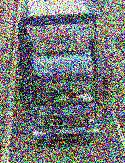truck: (18, 0, 109, 142)
